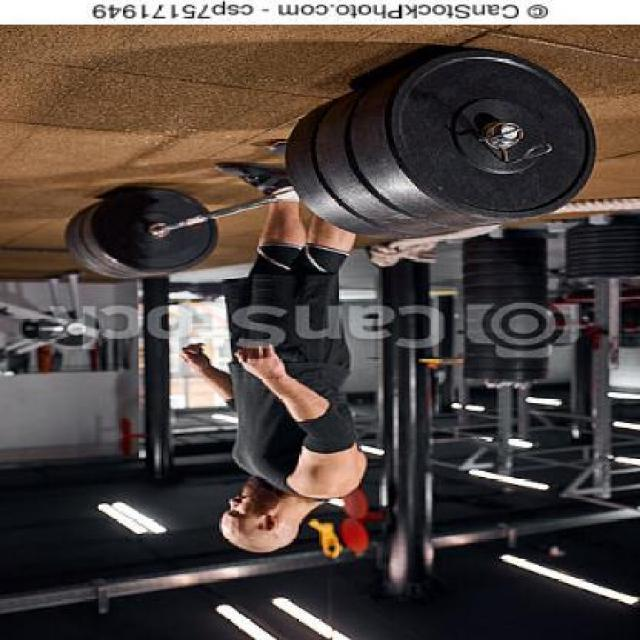Barbell: (484, 120, 528, 146)
